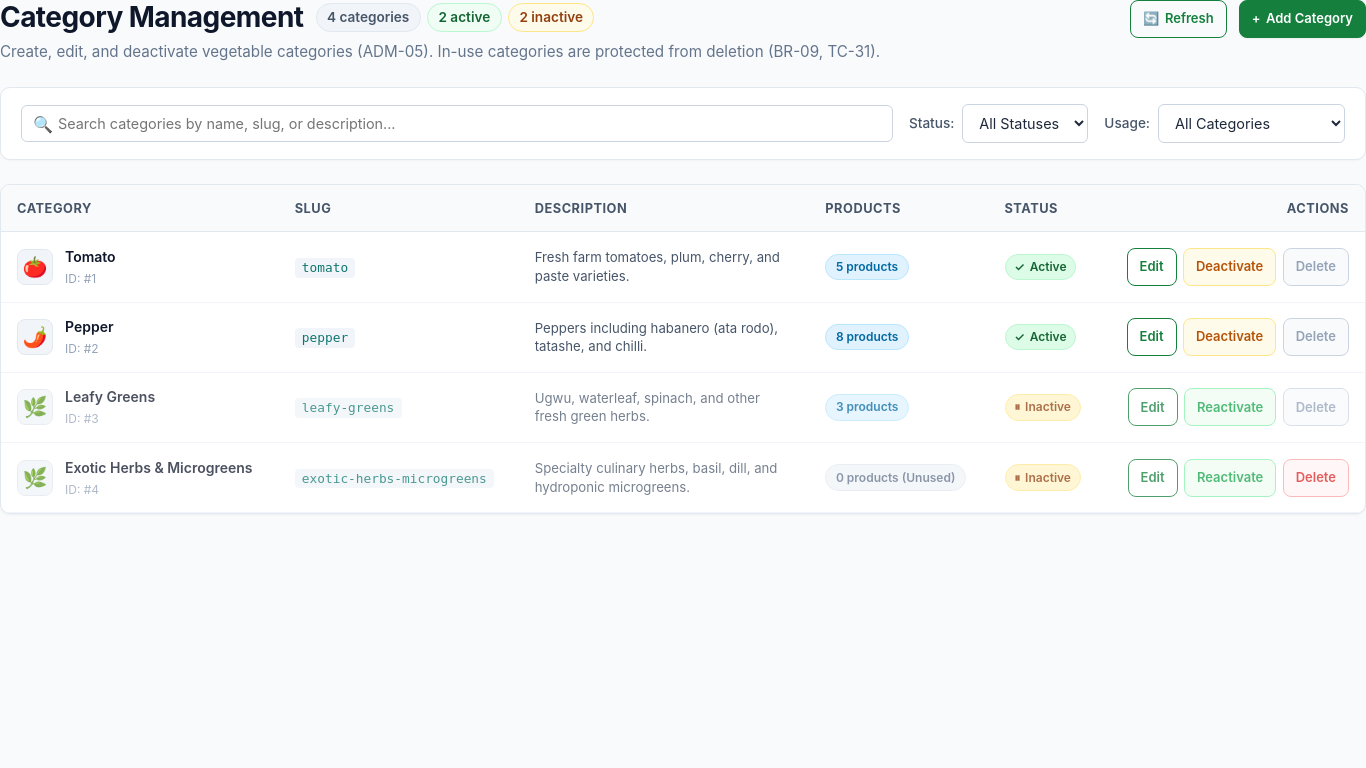
Test case: FE-100 / ADM-05: Admin Categories Management Page › 3. Create Category (ADM-05) › validates unique category name to prevent duplicate creation
Step 1. Click the button with test id "add-category-btn" → (1302, 19), box [1239,0,1365,38]
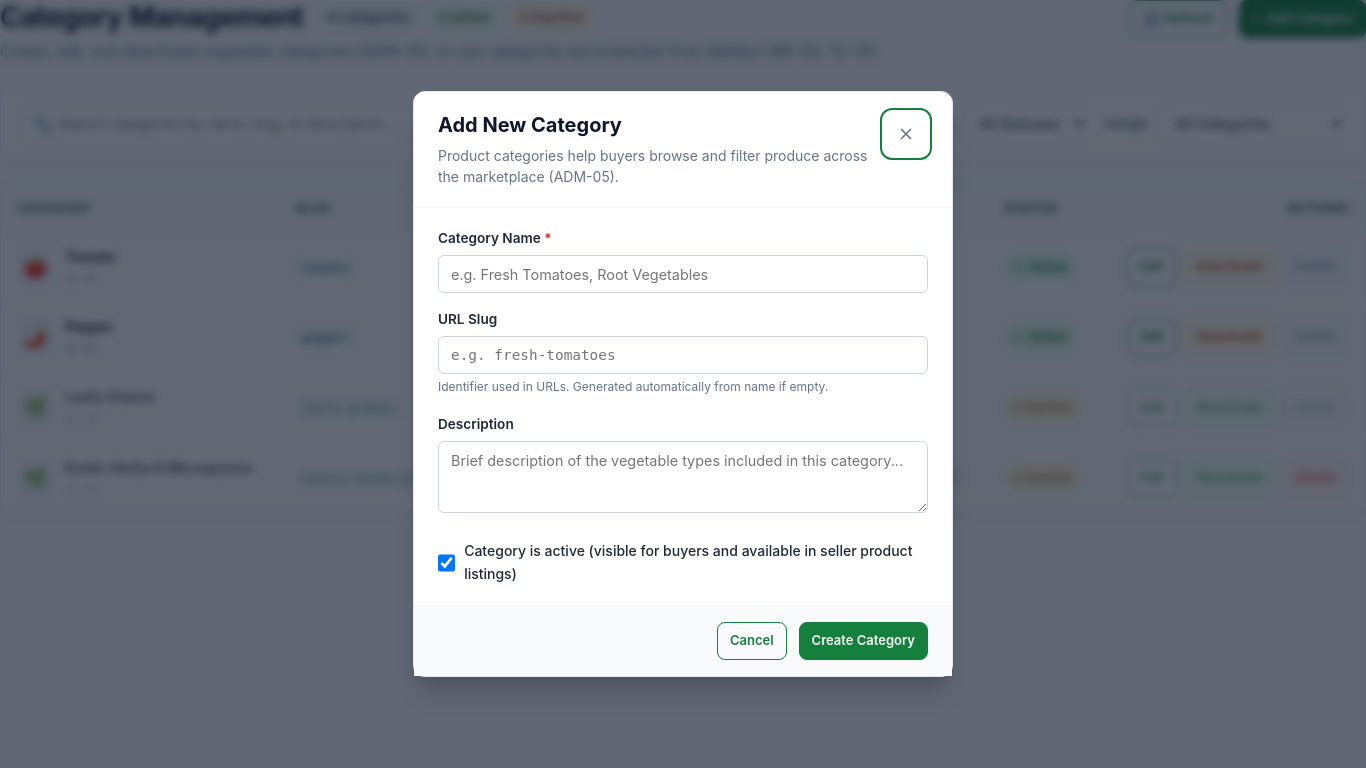
Enter an already existing name: 'Tomato'
Step 2. Type "Tomato" into the field with test id "category-name-input" → (683, 274), box [438,255,928,293]
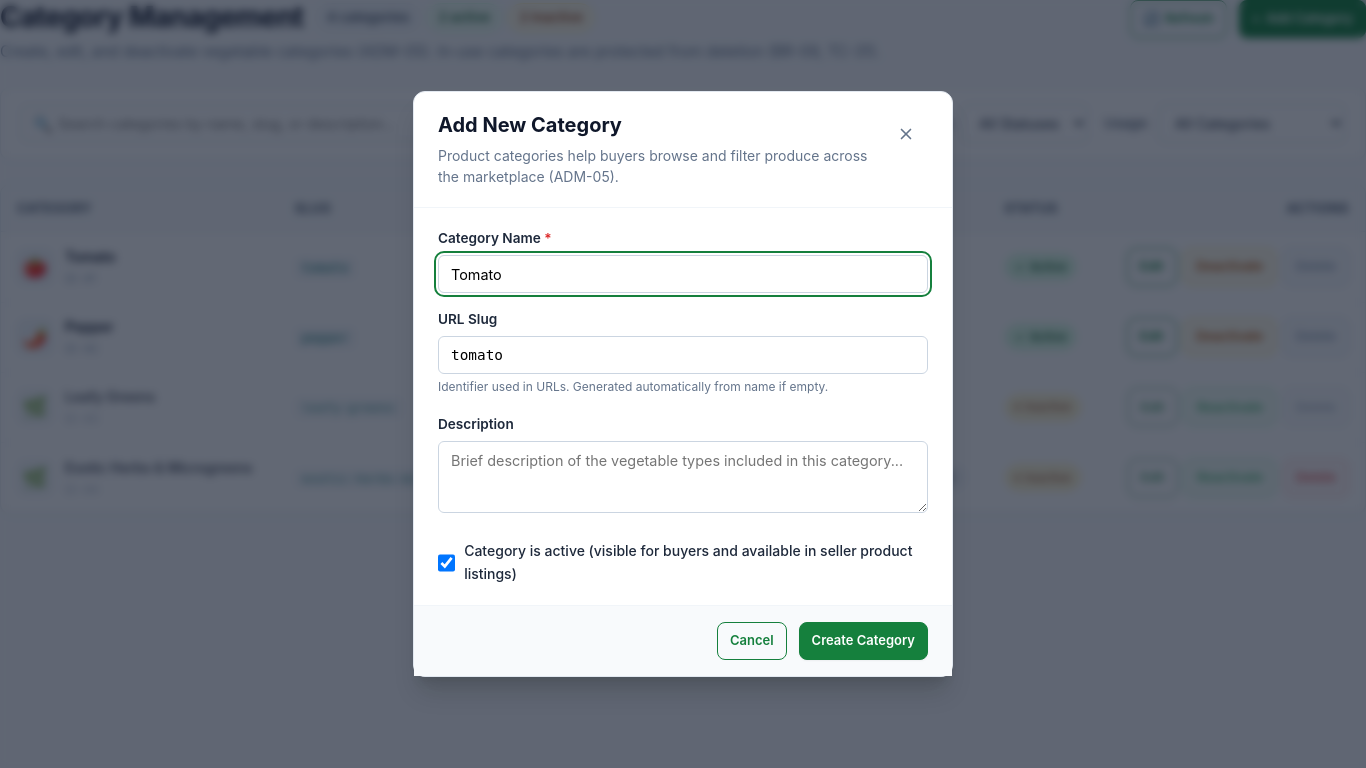
Step 3. Click the button with test id "category-modal-save-btn" → (863, 641), box [799,622,928,660]
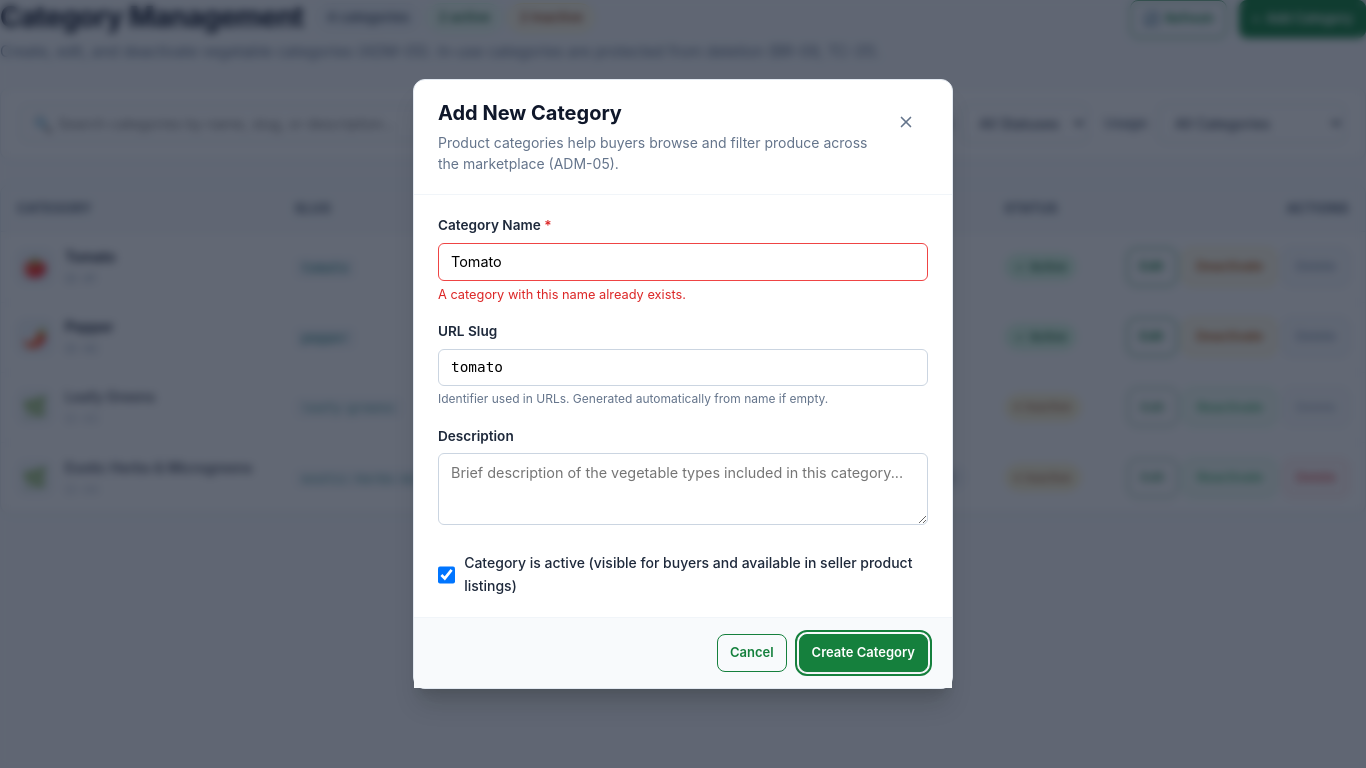
Expected: the text with test id "category-name-error" shows "already exists", [438,287,686,302]
